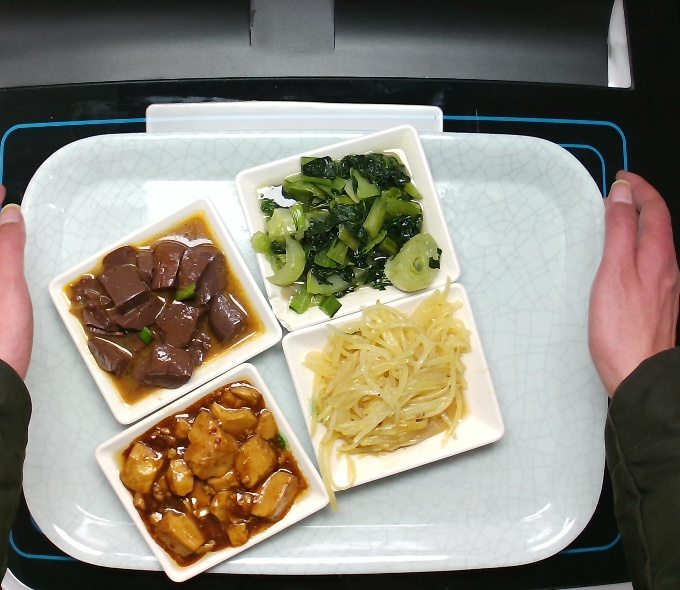wcq-MaPoDouFu: (115, 384, 304, 556)
wcq-NiuXue: (71, 229, 247, 397)
wcq-TuDouSi: (303, 299, 478, 459)
wcq-YouDongCai: (244, 147, 446, 308)
